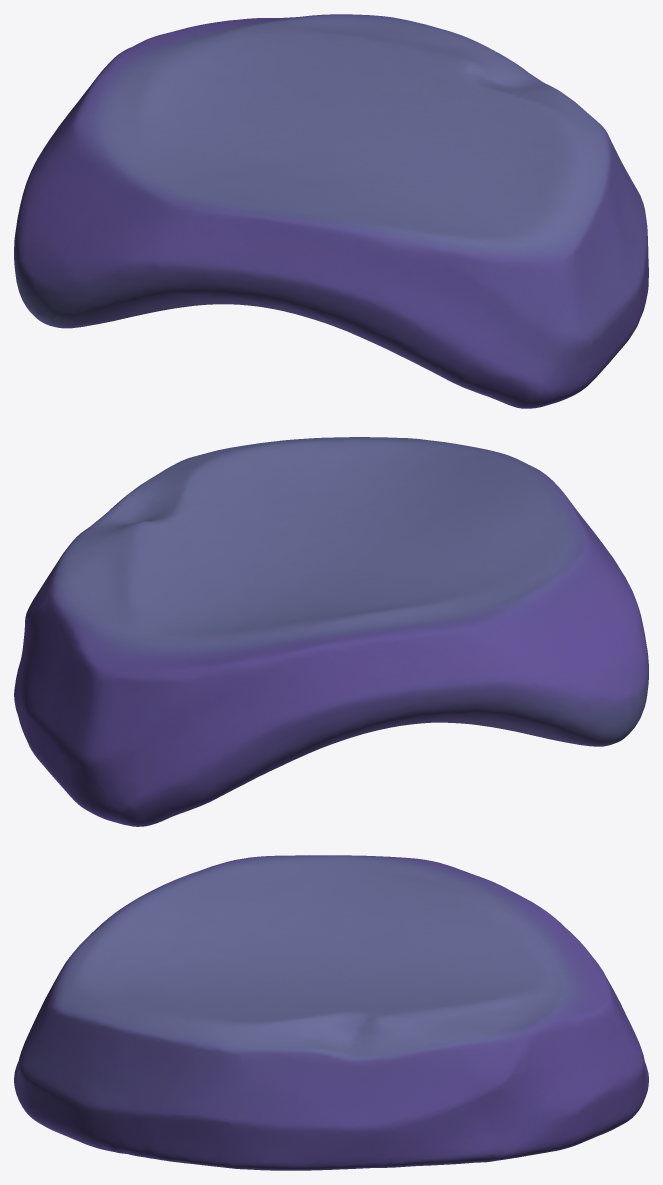
3 renders of one model, top to bottom at view 1: azimuth 30°, elevation 25°; view 2: azimuth 150°, elevation 25°; view 3: azimuth 270°, elevation 25°, orthographic. The views are drawn at different scales.
Parts seen in each view (by area): view 1: Mesh::generatedModels/pLI2jFPyPHMpGeYpXJTK.gltf; view 2: Mesh::generatedModels/pLI2jFPyPHMpGeYpXJTK.gltf; view 3: Mesh::generatedModels/pLI2jFPyPHMpGeYpXJTK.gltf.
Part boxes in pixels (<box>): Mesh::generatedModels/pLI2jFPyPHMpGeYpXJTK.gltf: <box>14,14,648,408</box>; Mesh::generatedModels/pLI2jFPyPHMpGeYpXJTK.gltf: <box>14,437,648,826</box>; Mesh::generatedModels/pLI2jFPyPHMpGeYpXJTK.gltf: <box>14,855,648,1170</box>.
Bounding box in the file's own units: 0.8802 × 0.2665 × 1.
1 material, 1 textured.
